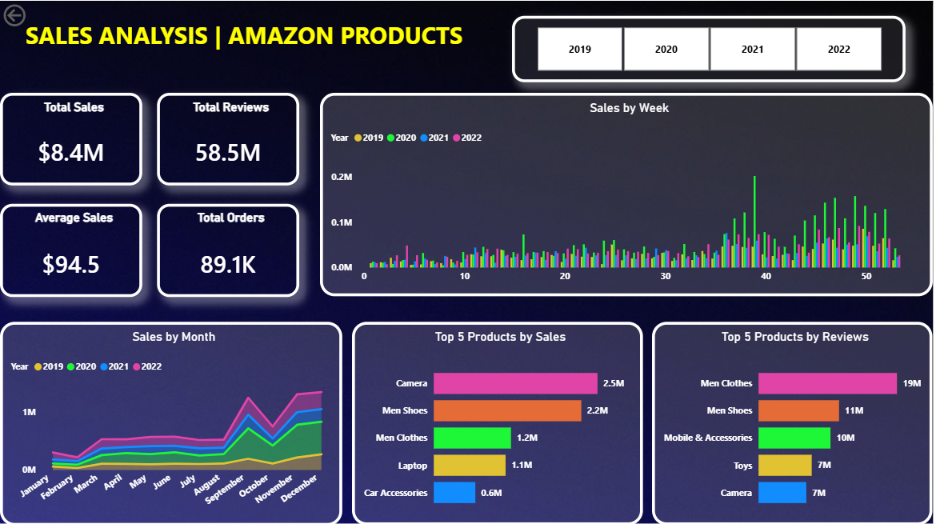

The page's visual inventory and layout, read from the dashboard file:
{"tool":"powerbi","page":{"name":"Page 1","canvas":[1280,720],"ordinal":0},"visuals":[{"type":"stackedAreaChart","title":"Sales by Month","fields":{"Category":["Amazon_Data.Order Date.Variation.Date Hierarchy.Month"],"Y":["Sum(Amazon_Data.Price(Dollar))"],"Series":["Amazon_Data.Order Date.Variation.Date Hierarchy.Year"]},"box":[0,440.4,469.3,279.9],"z":0},{"type":"barChart","title":"Top 5 Products by Reviews","fields":{"Category":["Amazon_Data.Product Category"],"Y":["Sum(Amazon_Data.Number of  reviews)"]},"box":[895.1,440.4,384.9,279.4],"z":1},{"type":"barChart","title":"Top 5 Products by Sales","fields":{"Y":["Sum(Amazon_Data.Price(Dollar))"],"Category":["Amazon_Data.Product Category"]},"box":[483.2,440.4,399.1,279.4],"z":2},{"type":"actionButton","box":[0,0,100,40],"z":4},{"type":"clusteredColumnChart","title":"Sales by Week","fields":{"Category":["Amazon_Data.WeekNumber"],"Y":["Sum(Amazon_Data.Price(Dollar))"],"Series":["Amazon_Data.Order Date.Variation.Date Hierarchy.Year"]},"box":[439,126.9,841,279.4],"z":5},{"type":"cardVisual","title":"Total Sales","fields":{"Data":["Amazon_Data.TotalSales"]},"box":[0,126.9,195.3,126.9],"z":6},{"type":"cardVisual","title":"Total Reviews","fields":{"Data":["Amazon_Data.TotalReview"]},"box":[215.2,126.9,195.3,126.9],"z":7},{"type":"cardVisual","title":"Average Sales","fields":{"Data":["Amazon_Data.AverageSales"]},"box":[0,278,195.3,128.3],"z":8},{"type":"cardVisual","title":"Total Orders","fields":{"Data":["Amazon_Data.TotalOrders"]},"box":[215.2,278,195.3,128.3],"z":9},{"type":"slicer","fields":{"Values":["Amazon_Data.Order Date.Variation.Date Hierarchy.Year"]},"box":[702.7,20,540.2,91.2],"z":10},{"type":"textbox","box":[0,20,669.9,81.2],"z":11}]}

Visuals, with their boxes in screenshot pixels (x1, y1, x2, y2), scaled from the page's 1280x720 canvas onto the 934x524 screenshot:
"Sales by Month" stackedAreaChart: bbox=(0, 321, 342, 523)
"Top 5 Products by Reviews" barChart: bbox=(653, 321, 933, 523)
"Top 5 Products by Sales" barChart: bbox=(353, 321, 644, 523)
actionButton: bbox=(0, 0, 73, 29)
"Sales by Week" clusteredColumnChart: bbox=(320, 92, 933, 296)
"Total Sales" cardVisual: bbox=(0, 92, 143, 185)
"Total Reviews" cardVisual: bbox=(157, 92, 300, 185)
"Average Sales" cardVisual: bbox=(0, 202, 143, 296)
"Total Orders" cardVisual: bbox=(157, 202, 300, 296)
slicer - Amazon_Data.Order Date.Variation.Date Hierarchy.Year: bbox=(513, 15, 907, 81)
textbox: bbox=(0, 15, 489, 74)
